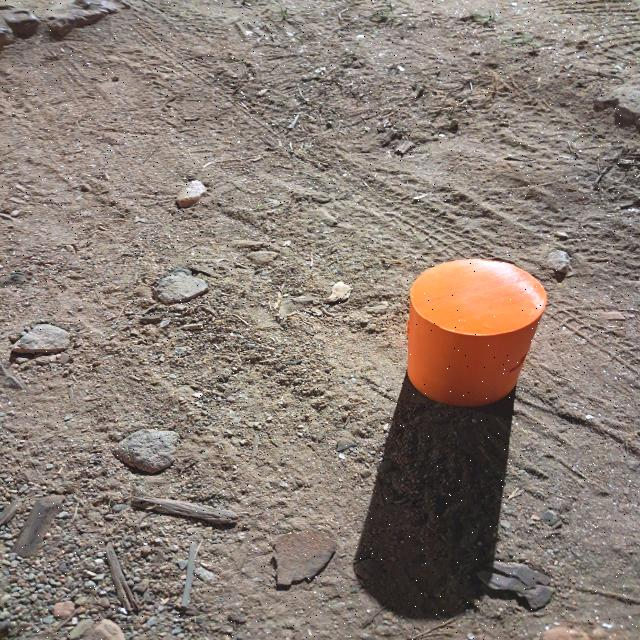Cylinder: (406, 257, 548, 407)
